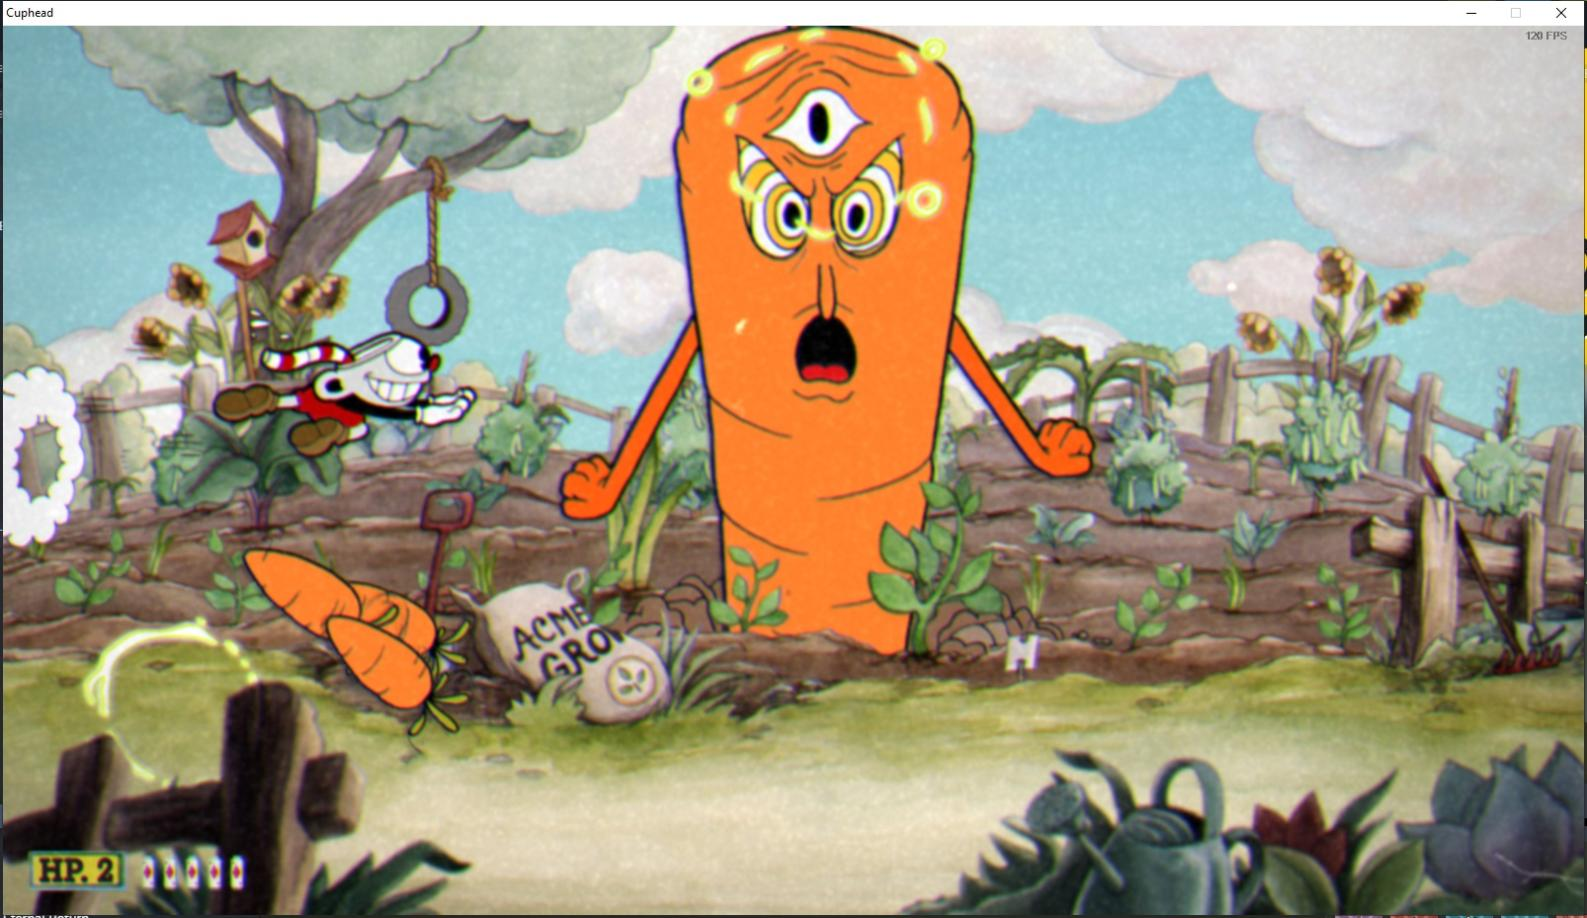carrot: (236, 528, 402, 665), (306, 566, 477, 688), (322, 612, 470, 739)
carrot_boss: (659, 27, 984, 657)
hp2: (90, 853, 123, 890)
player: (191, 317, 484, 468)
ring: (66, 612, 294, 812)
